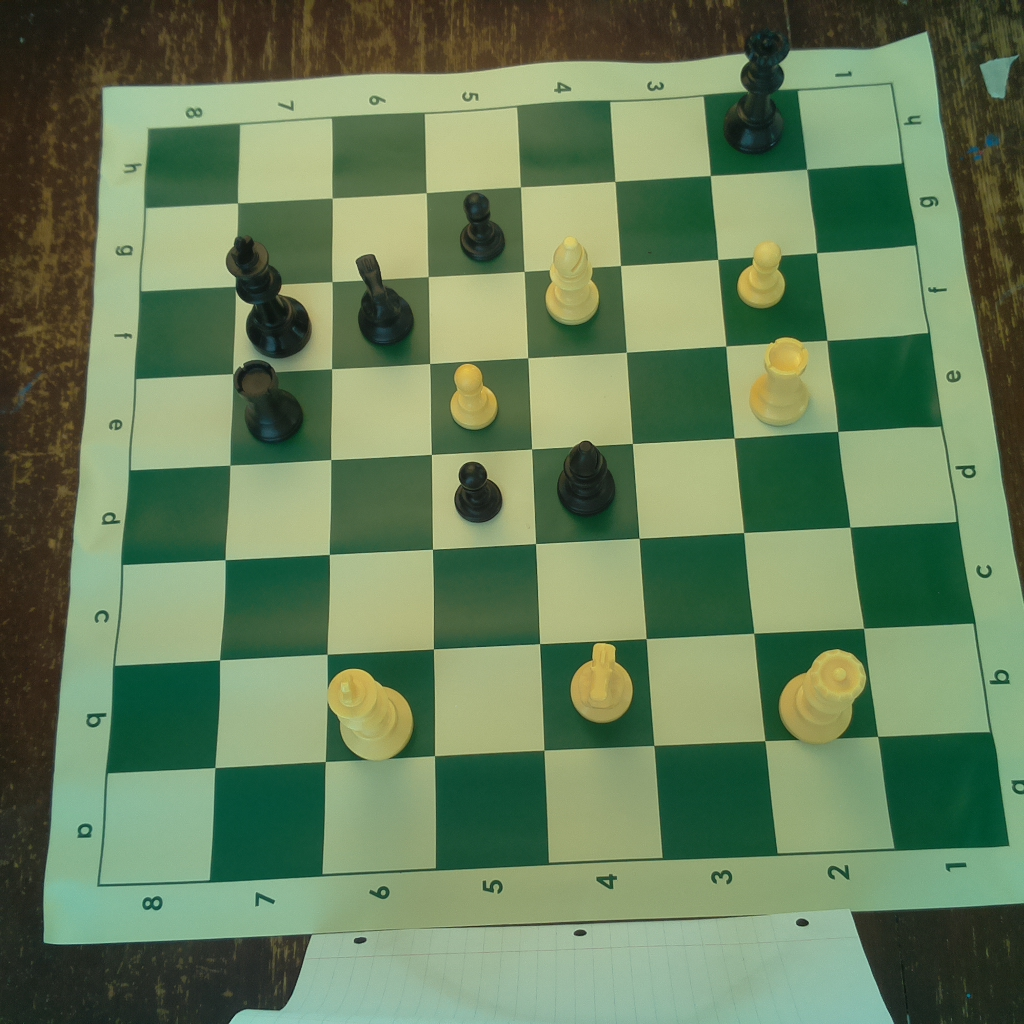black_bishop: (554, 436, 619, 515)
black_king: (220, 232, 314, 358)
black_knight: (349, 249, 418, 347)
black_pawn: (453, 187, 512, 267), (449, 457, 506, 527)
black_queen: (721, 17, 798, 158)
black_rook: (231, 357, 305, 445)
file_a: (99, 731, 1011, 882)
file_b: (106, 622, 992, 771)
file_c: (115, 523, 979, 669)
file_d: (120, 425, 958, 567)
file_e: (129, 332, 945, 471)
file_f: (134, 244, 928, 382)
file_g: (144, 165, 911, 290)
file_h: (145, 82, 906, 208)
outline: (96, 82, 1008, 887)
rank_1: (797, 84, 1006, 852)
rank_2: (705, 93, 897, 851)
rank_3: (611, 97, 781, 860)
rank_4: (518, 102, 664, 866)
rank_5: (423, 106, 550, 871), (427, 106, 549, 870)
rank_6: (320, 113, 437, 877)
rank_7: (210, 117, 329, 884)
rank_8: (98, 123, 240, 891)
white_bishop: (544, 236, 601, 327)
white_king: (321, 665, 416, 761)
white_knight: (571, 636, 638, 727)
white_pawn: (732, 236, 792, 309), (445, 356, 501, 430)
white_queen: (777, 636, 870, 753)
white_rook: (745, 332, 820, 431)
